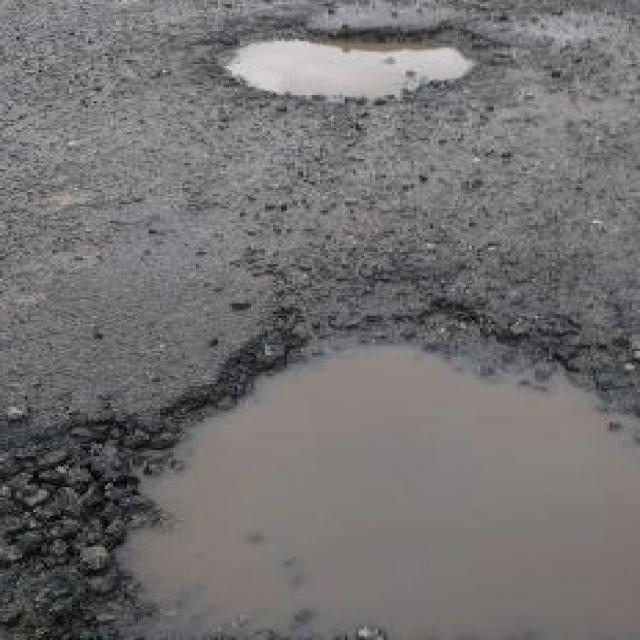road-pothole: (64, 305, 631, 638), (213, 18, 508, 102)
